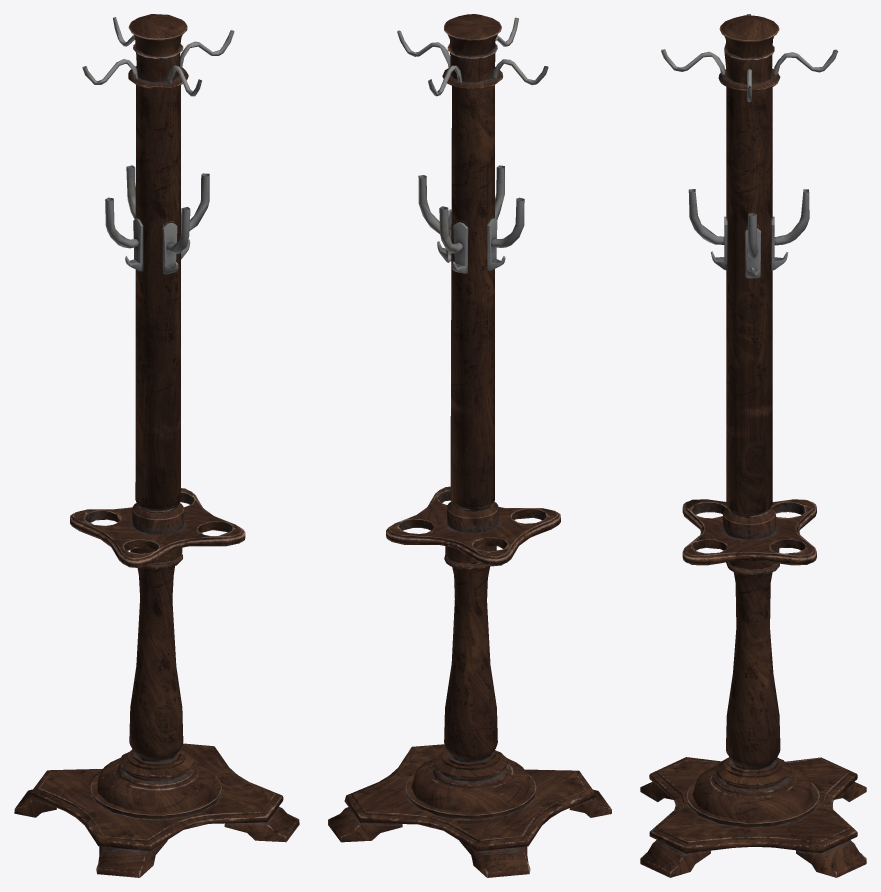
Rendered from SM_ClothHangar1rack.fbx.
3 views of the same model, side by side, from view 1: azimuth 30°, elevation 25°; view 2: azimuth 150°, elevation 25°; view 3: azimuth 270°, elevation 25° (orthographic).
Parts seen in each view (by area): view 1: SM_ClothHangar1rack_LOD0; view 2: SM_ClothHangar1rack_LOD0; view 3: SM_ClothHangar1rack_LOD0.
Boxes of the visible parts, left/top/right/bottom form: SM_ClothHangar1rack_LOD0: left=14, top=14, right=299, bottom=877; SM_ClothHangar1rack_LOD0: left=328, top=14, right=611, bottom=877; SM_ClothHangar1rack_LOD0: left=640, top=14, right=866, bottom=877.
Bounding box in the file's own units: 59.23 × 56.81 × 223.
Materials: 1 (1 with a texture image).
